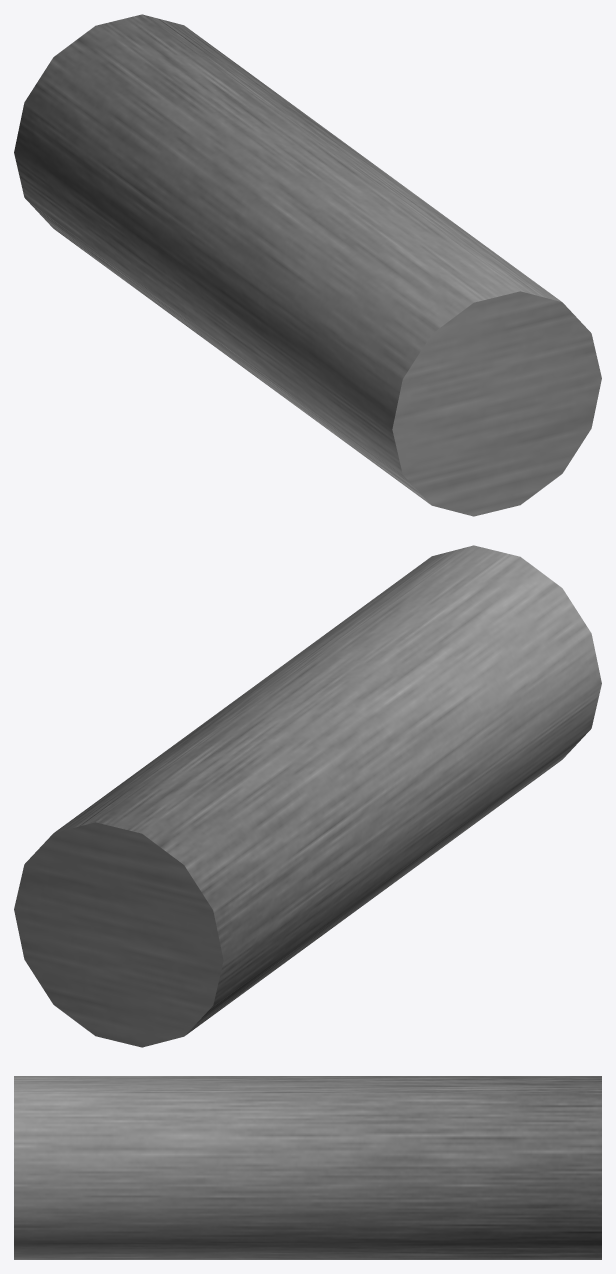
Rendered from pipe-1x3.fbx.
3 views of the same model, one above another, from view 1: azimuth 30°, elevation 25°; view 2: azimuth 150°, elevation 25°; view 3: azimuth 270°, elevation 25° (orthographic). The views are drawn at different scales.
Parts seen in each view (by area): view 1: pipe1x3; view 2: pipe1x3; view 3: pipe1x3.
Part boxes in pixels (x1,y1,x2,y2): pipe1x3: (14,14,601,516); pipe1x3: (14,545,601,1047); pipe1x3: (14,1076,601,1259).
Size of the model in its own units: 96.72 by 94.29 by 302.
